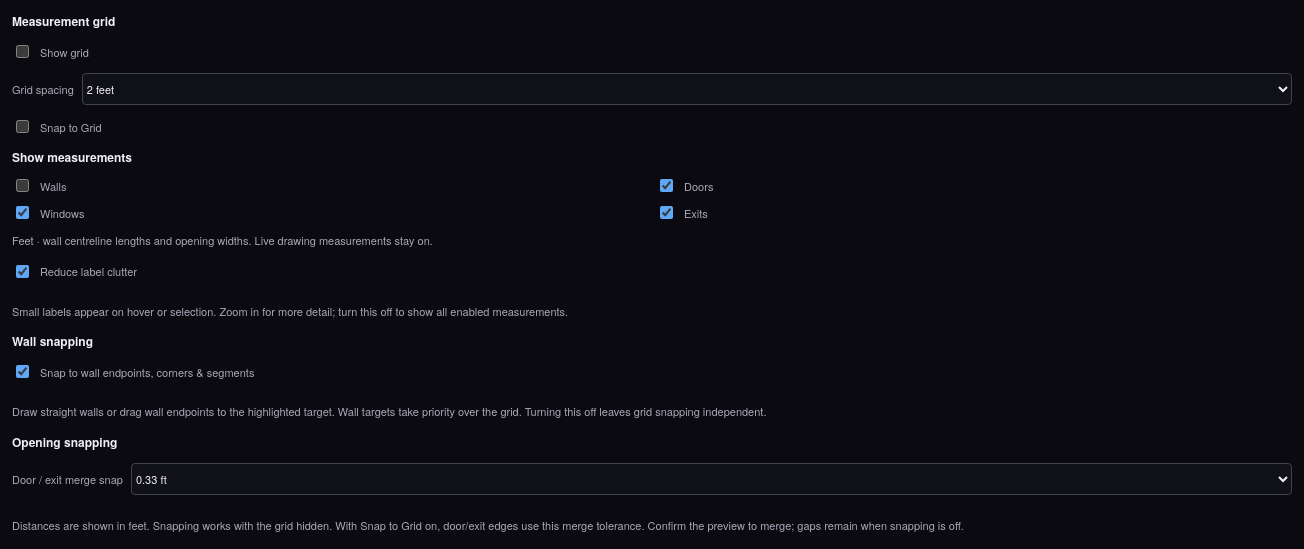
Scenario: saves any measurement combination independently of grid and snapping settings
Check: the checkbox labelled "Walls" is not checked, box [16, 179, 29, 192]
Check: the checkbox labelled "Doors" is checked, box [660, 179, 673, 192]
Click the checkbox labelled "Windows" at (22, 212), box [16, 206, 29, 219]
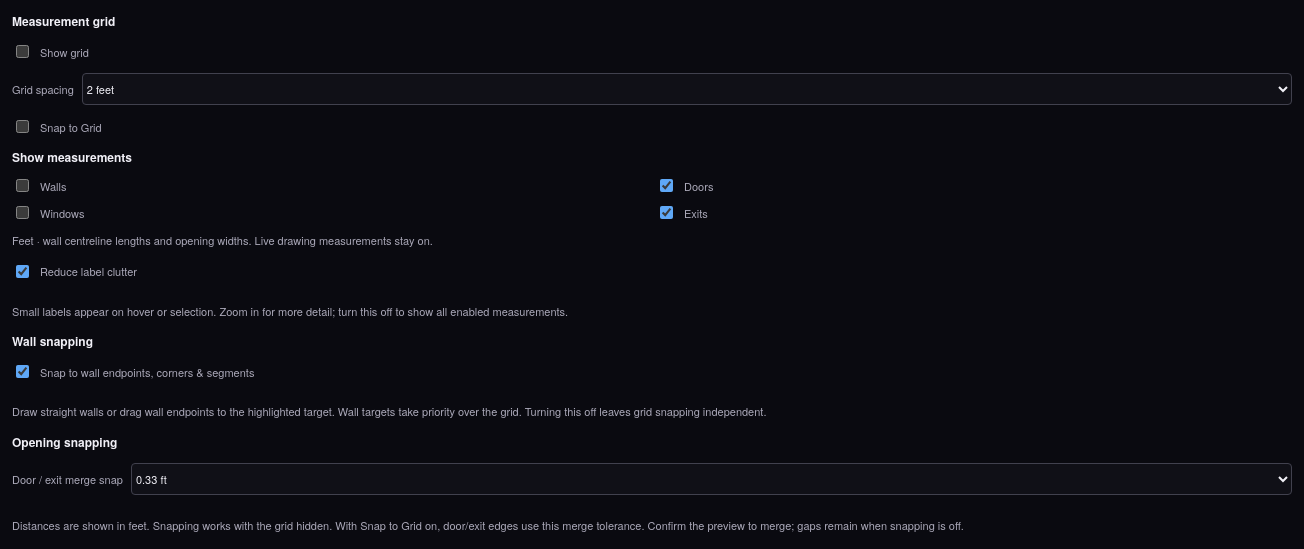
Click the checkbox labelled "Exits" at (666, 212), box [660, 206, 673, 219]
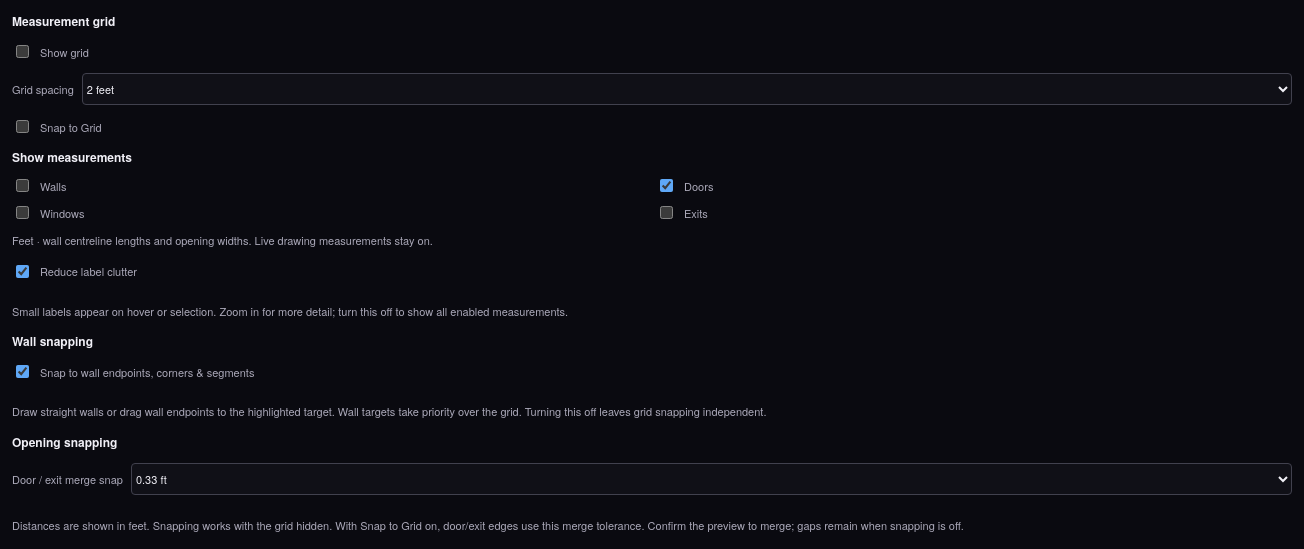
Check: the checkbox labelled "Doors" is checked, box [660, 179, 673, 192]
Click the checkbox labelled "Walls" at (22, 186), box [16, 179, 29, 192]
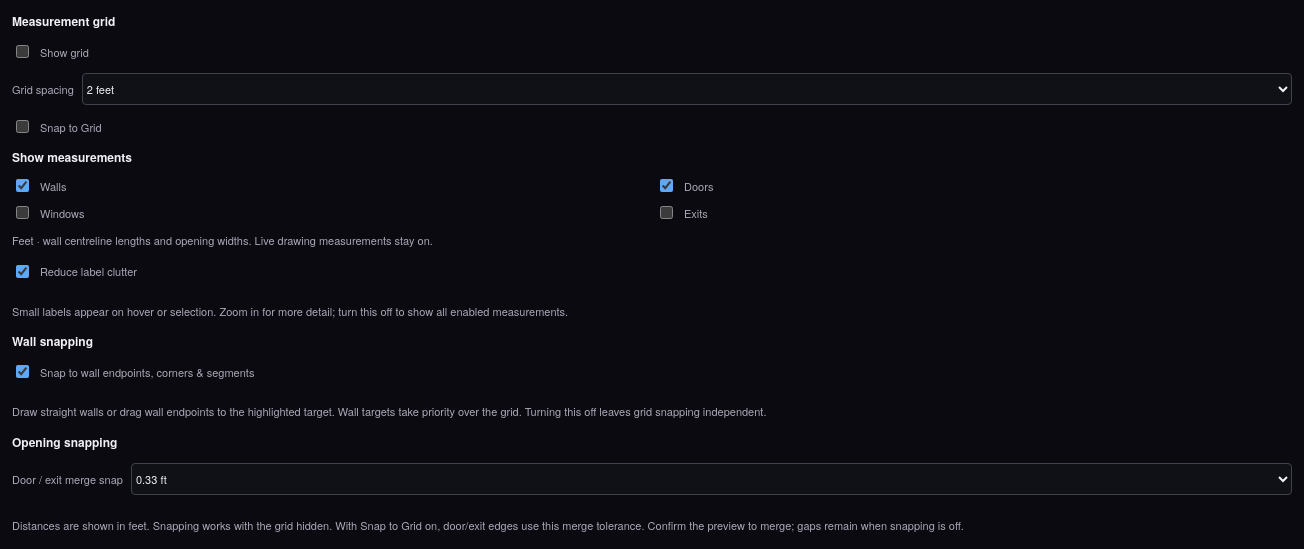
Click the checkbox labelled "Reduce label clutter" at (22, 271), box [16, 265, 29, 278]
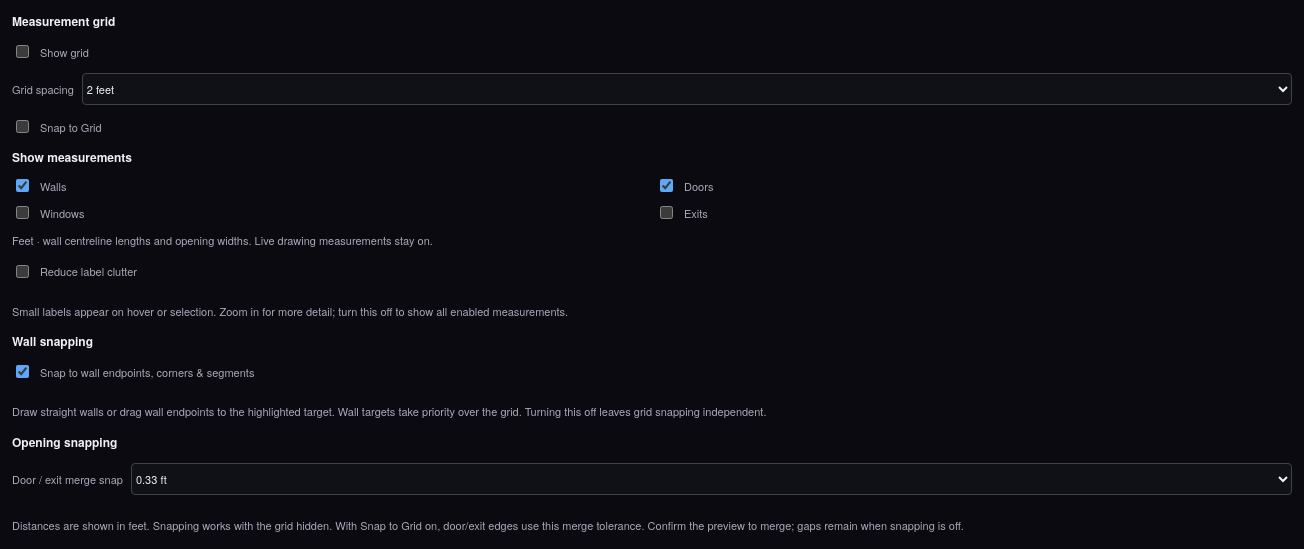
Check: the checkbox labelled "Walls" is checked, box [16, 179, 29, 192]
Check: the checkbox labelled "Windows" is not checked, box [16, 206, 29, 219]
Check: the checkbox labelled "Reduce label clutter" is not checked, box [16, 265, 29, 278]
